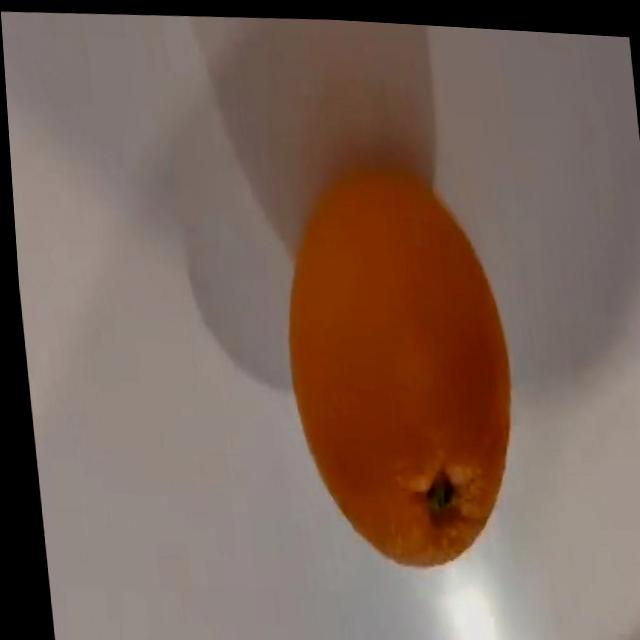Orange: (265, 154, 524, 571)
